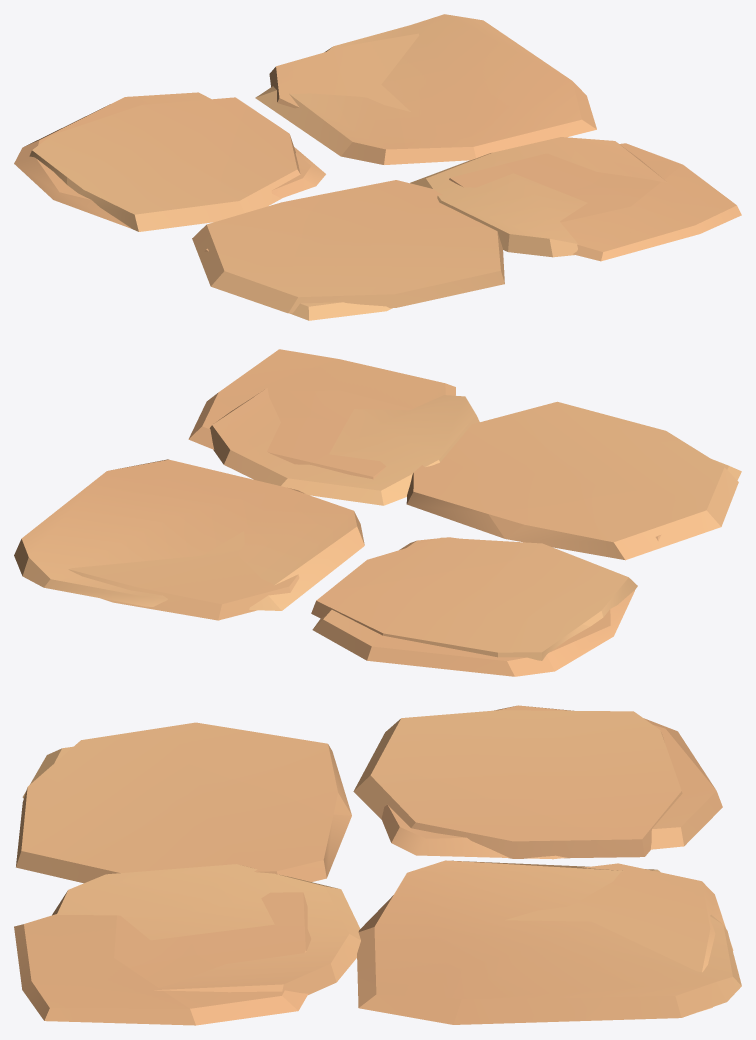
The model's file is Pavement_Stone.fbx.
The picture shows the model from 3 angles, top to bottom: view 1: azimuth 30°, elevation 25°; view 2: azimuth 150°, elevation 25°; view 3: azimuth 270°, elevation 25°; orthographic projection. The views are drawn at different scales.
Parts seen in each view (by area): view 1: Pavement_Stone_1, Pavement_Stone_2; view 2: Pavement_Stone_1, Pavement_Stone_2; view 3: Pavement_Stone_1, Pavement_Stone_2.
Part boxes in pixels (bbox=[...]): Pavement_Stone_1: bbox=[14, 14, 741, 313]; Pavement_Stone_2: bbox=[29, 33, 668, 320]; Pavement_Stone_1: bbox=[14, 349, 738, 676]; Pavement_Stone_2: bbox=[68, 388, 741, 660]; Pavement_Stone_1: bbox=[14, 705, 741, 1025]; Pavement_Stone_2: bbox=[22, 710, 733, 1011].
Size of the model in its own units: 149 by 5.02 by 146.
